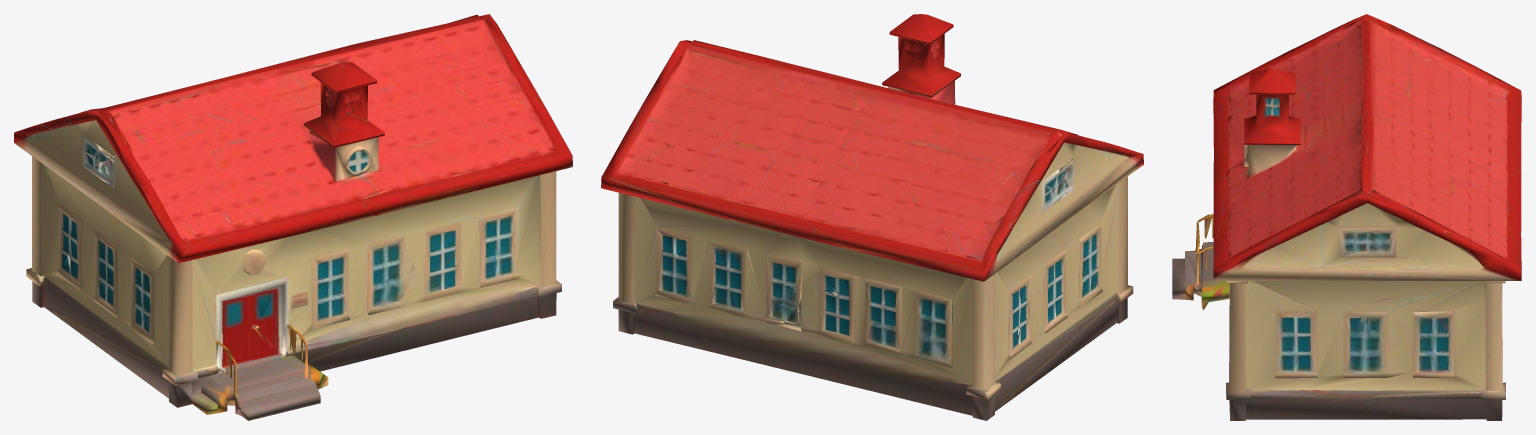
Rendered from school-512.glb.
3 views of the same model, side by side, from view 1: azimuth 30°, elevation 25°; view 2: azimuth 150°, elevation 25°; view 3: azimuth 270°, elevation 25° (orthographic). The views are drawn at different scales.
Size of the model in its own units: 1.9 by 1.31 by 1.55.
1 material, 1 textured.
